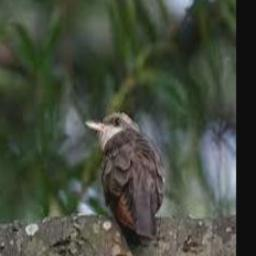Cuckoo: (85, 112, 166, 242)
